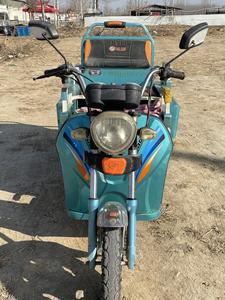empty: (20, 11, 215, 300)
